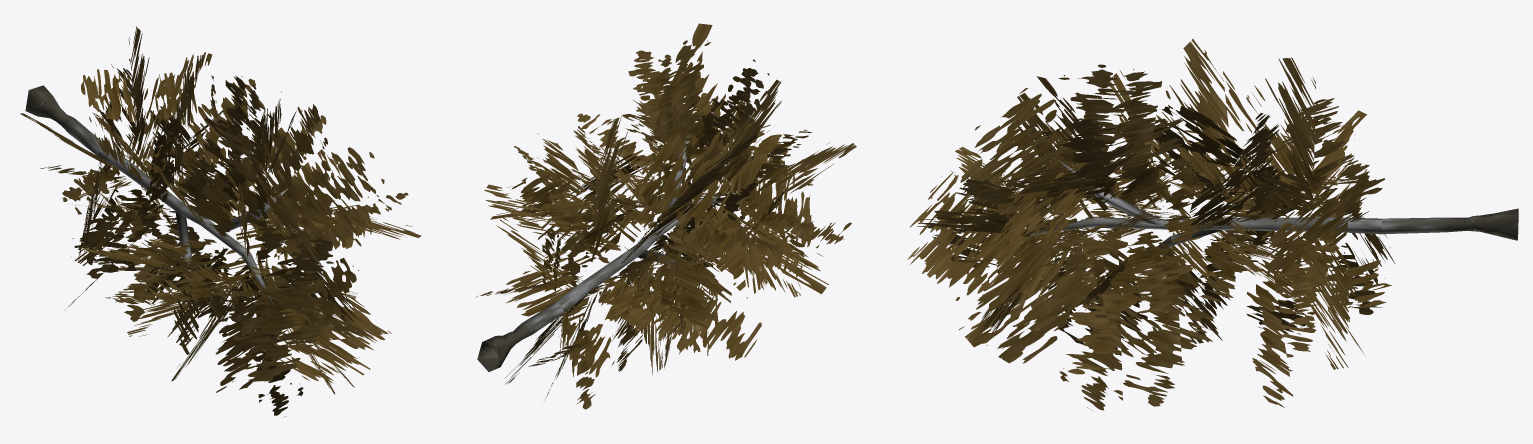
Rendered from tree_3d_04.obj.
The picture shows the model from 3 angles, left to right: view 1: azimuth 30°, elevation 25°; view 2: azimuth 150°, elevation 25°; view 3: azimuth 270°, elevation 25°; orthographic projection.
Visible parts, largest first — view 1: tree_3d_04; view 2: tree_3d_04; view 3: tree_3d_04.
Part boxes in pixels (bbox=[...]): tree_3d_04: bbox=[20, 26, 421, 416]; tree_3d_04: bbox=[475, 23, 856, 409]; tree_3d_04: bbox=[907, 39, 1518, 410].
Size of the model in its own units: 6.62 by 7.66 by 11.87.
Materials: 1 (1 with a texture image).
